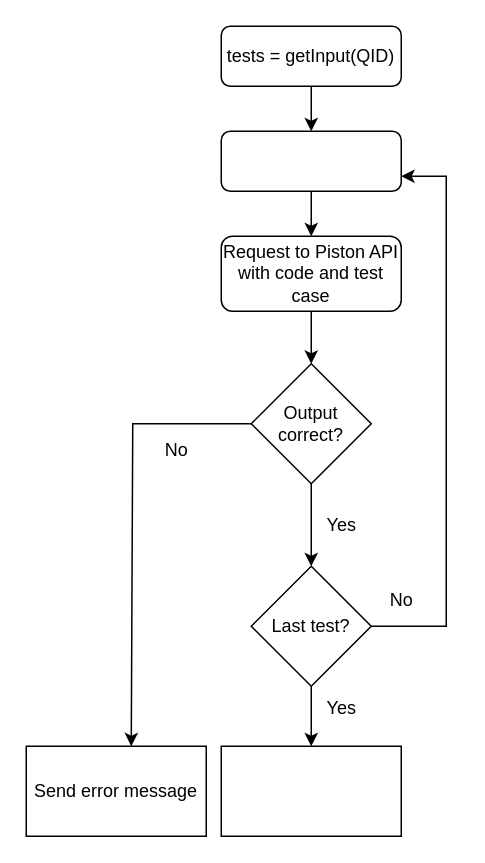
Some shapes in this 485 by 863 pixel diagram are drawn without their labels. Each missing label, with the centre of its shape:
"for test in tests" belongs at pixel 310 160.
"Send testing successful" belongs at pixel 310 790.
